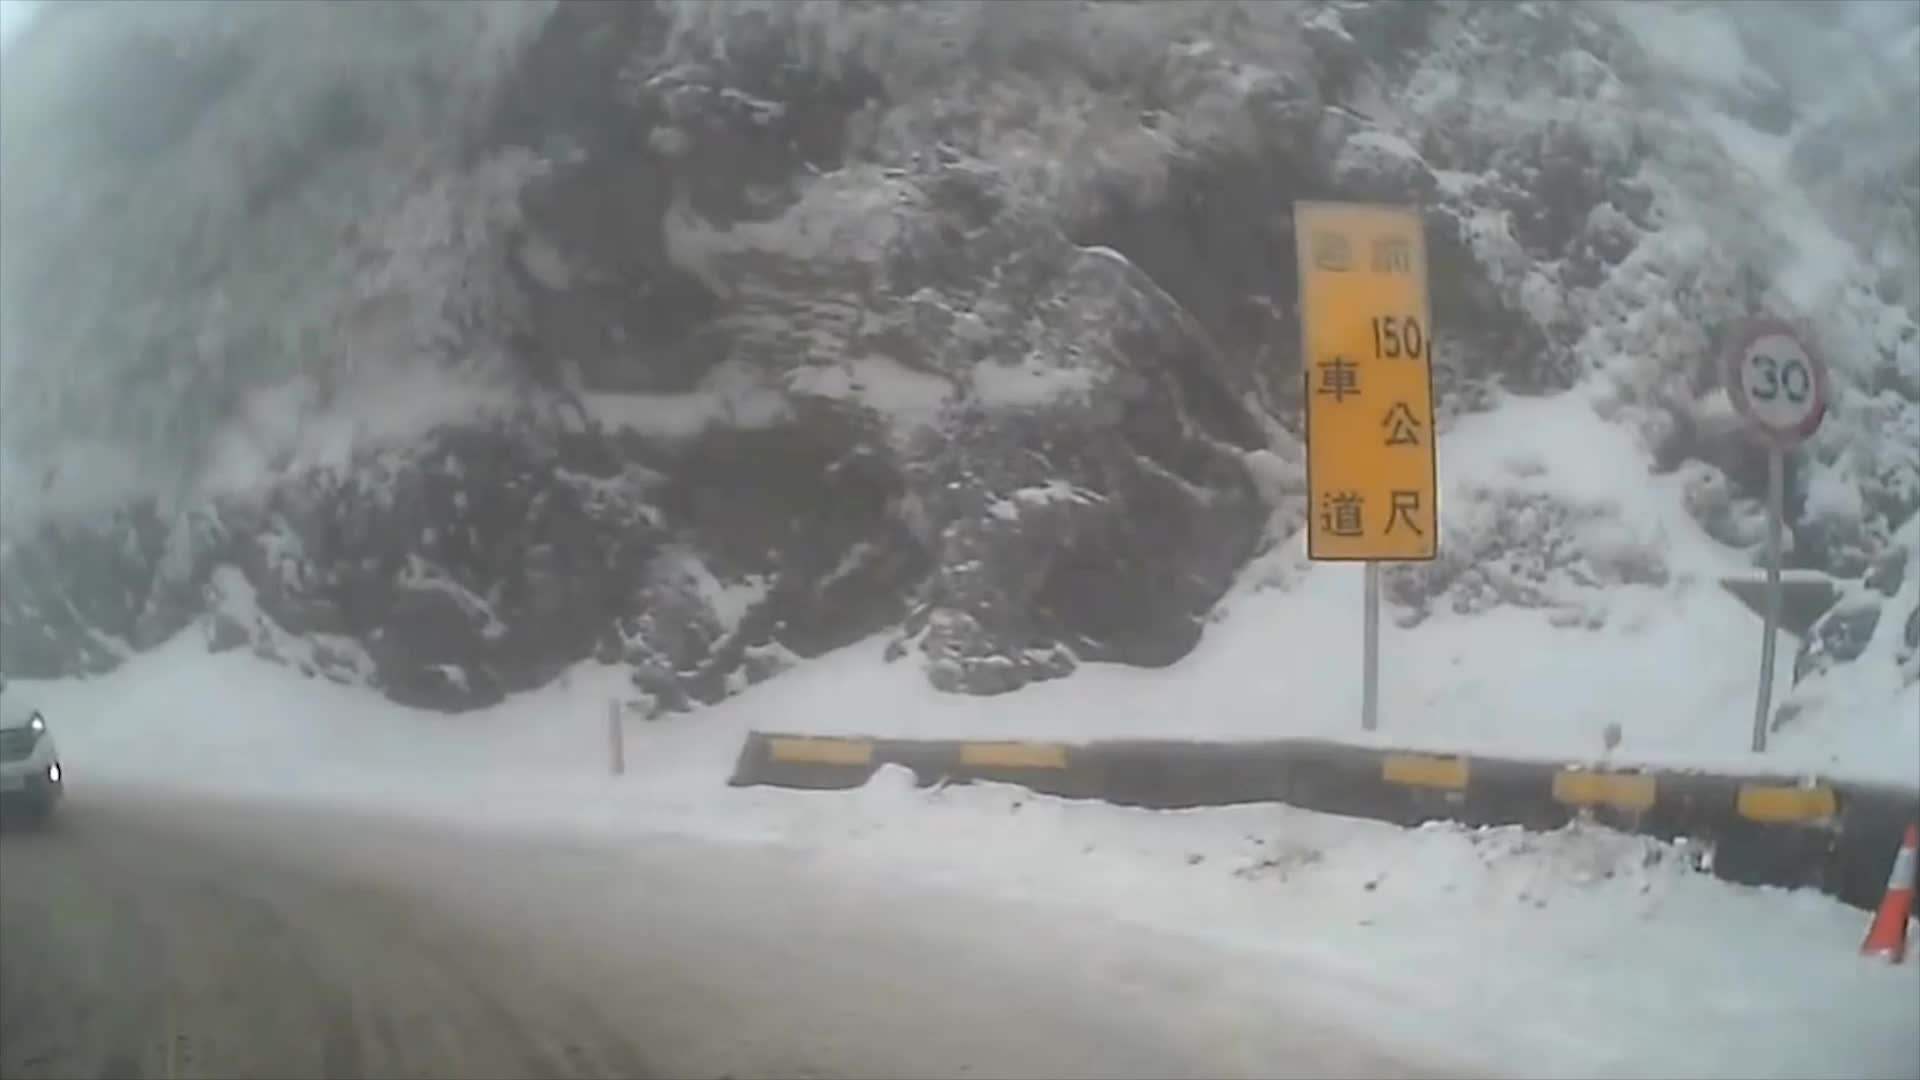vehicle: (0, 675, 65, 837)
